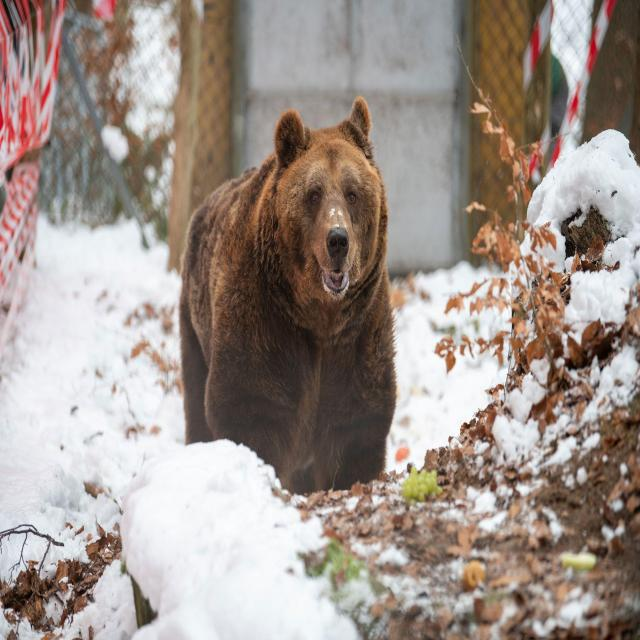Bear: (178, 98, 398, 498)
